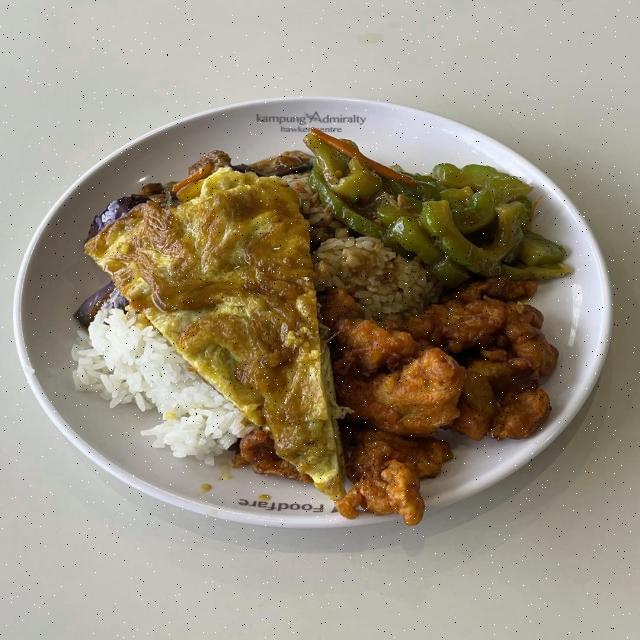Egg: (85, 168, 344, 500)
Green veg: (311, 142, 565, 284)
Non green veg: (86, 150, 312, 240), (73, 280, 126, 329)
Pork: (322, 280, 558, 525)
Rice: (73, 307, 254, 464), (73, 308, 252, 465), (313, 228, 439, 318)
